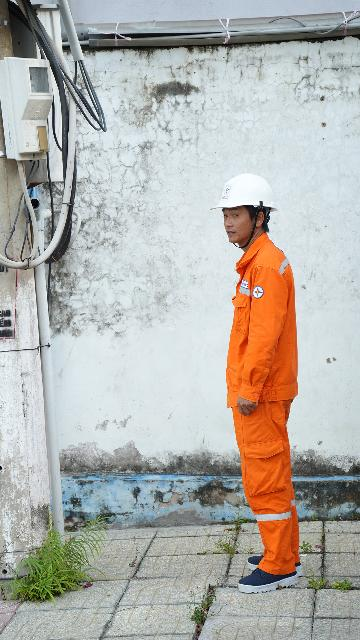helmet: (199, 172, 285, 214)
shoes: (240, 546, 316, 580), (224, 565, 307, 591)
